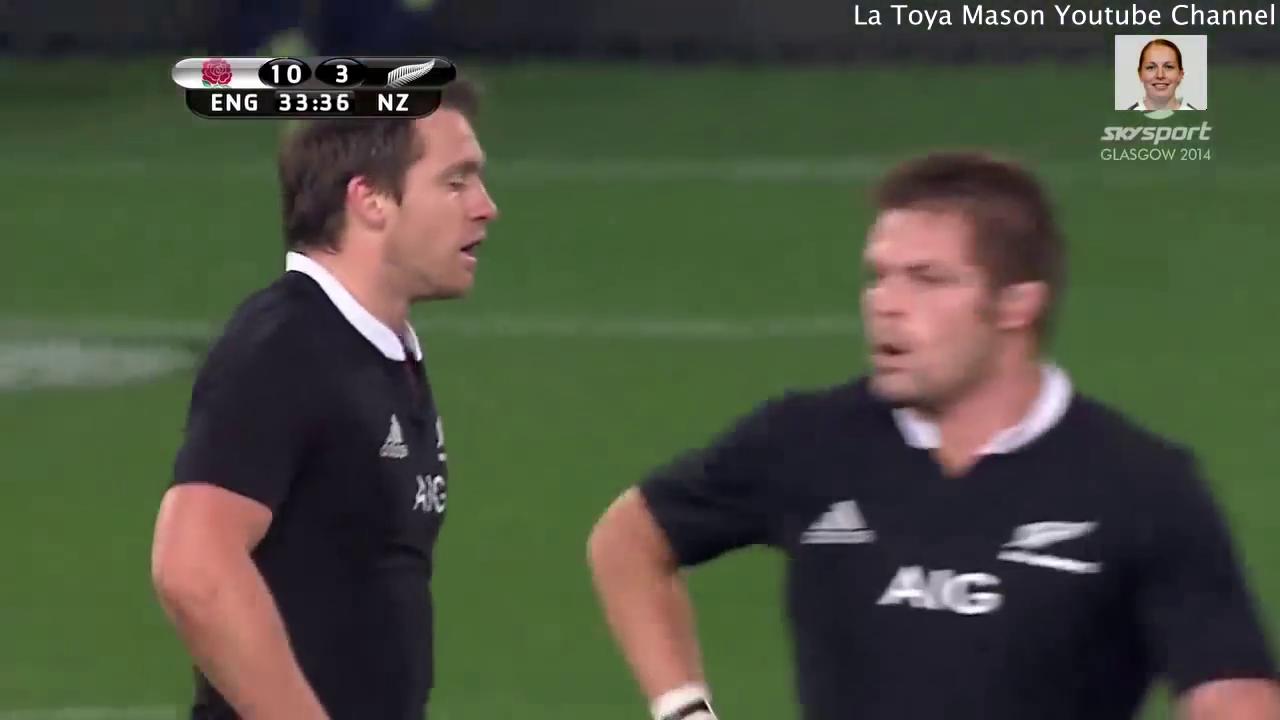player: (562, 136, 1280, 720), (139, 46, 509, 720)
